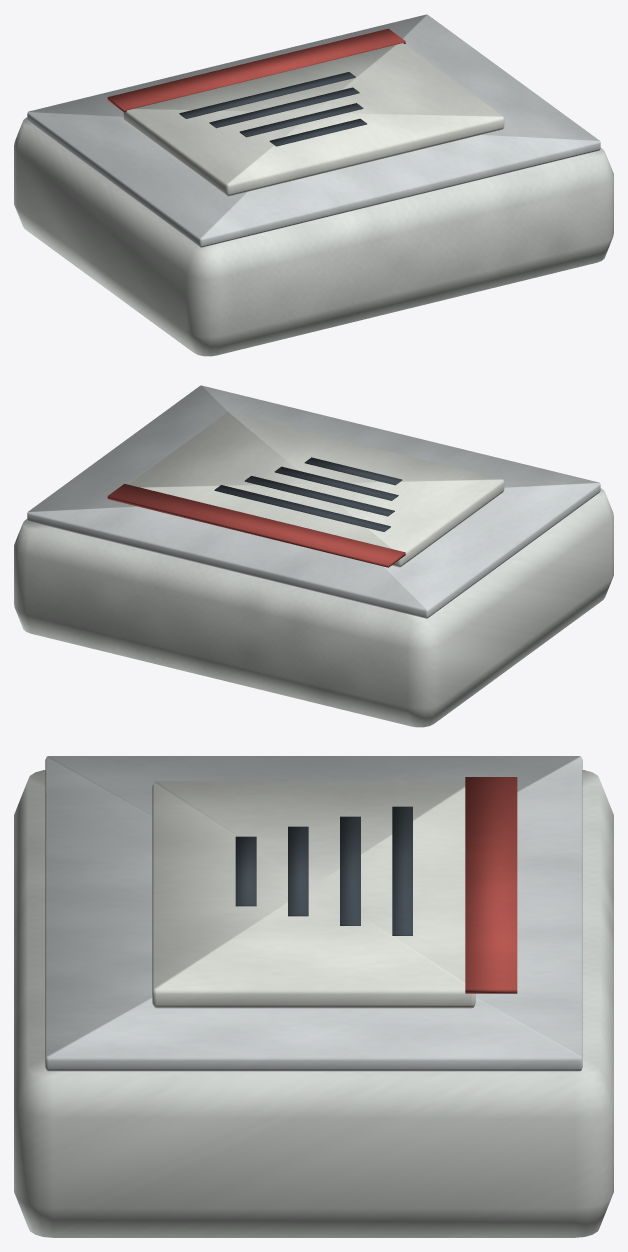
Rendered from dressing.glb.
3 renders of one model, top to bottom at view 1: azimuth 30°, elevation 25°; view 2: azimuth 150°, elevation 25°; view 3: azimuth 270°, elevation 25°, orthographic. The views are drawn at different scales.
Parts seen in each view (by area): view 1: VIS_SterilePackage, VIS_FoilSealBorder, VIS_Label, VIS_MedicalStripe, VIS_DressingTextBar_0, VIS_DressingTextBar_1, VIS_DressingTextBar_2, VIS_DressingTextBar_3; view 2: VIS_SterilePackage, VIS_FoilSealBorder, VIS_Label, VIS_MedicalStripe, VIS_DressingTextBar_0, VIS_DressingTextBar_1, VIS_DressingTextBar_2, VIS_DressingTextBar_3; view 3: VIS_SterilePackage, VIS_FoilSealBorder, VIS_Label, VIS_MedicalStripe, VIS_DressingTextBar_0, VIS_DressingTextBar_1, VIS_DressingTextBar_2, VIS_DressingTextBar_3.
Boxes of the visible parts, <box> form: VIS_SterilePackage: <box>14,117,613,356</box>; VIS_FoilSealBorder: <box>27,14,600,247</box>; VIS_Label: <box>123,43,504,196</box>; VIS_MedicalStripe: <box>107,28,405,112</box>; VIS_DressingTextBar_0: <box>179,72,355,118</box>; VIS_DressingTextBar_1: <box>209,87,359,128</box>; VIS_DressingTextBar_2: <box>239,103,363,137</box>; VIS_DressingTextBar_3: <box>269,118,366,146</box>; VIS_SterilePackage: <box>14,488,613,727</box>; VIS_FoilSealBorder: <box>27,385,600,618</box>; VIS_Label: <box>129,412,504,567</box>; VIS_MedicalStripe: <box>107,484,405,567</box>; VIS_DressingTextBar_0: <box>214,485,390,531</box>; VIS_DressingTextBar_1: <box>244,476,394,516</box>; VIS_DressingTextBar_2: <box>274,466,398,500</box>; VIS_DressingTextBar_3: <box>304,457,402,485</box>; VIS_SterilePackage: <box>14,770,613,1237</box>; VIS_FoilSealBorder: <box>45,756,582,1071</box>; VIS_Label: <box>152,781,475,1008</box>; VIS_MedicalStripe: <box>465,777,517,993</box>; VIS_DressingTextBar_0: <box>392,806,412,935</box>; VIS_DressingTextBar_1: <box>340,816,360,925</box>; VIS_DressingTextBar_2: <box>288,826,308,916</box>; VIS_DressingTextBar_3: <box>235,836,256,906</box>.
Size of the model in its own units: 0.145 by 0.0425 by 0.115.
Materials: 5 (5 with a texture image).
